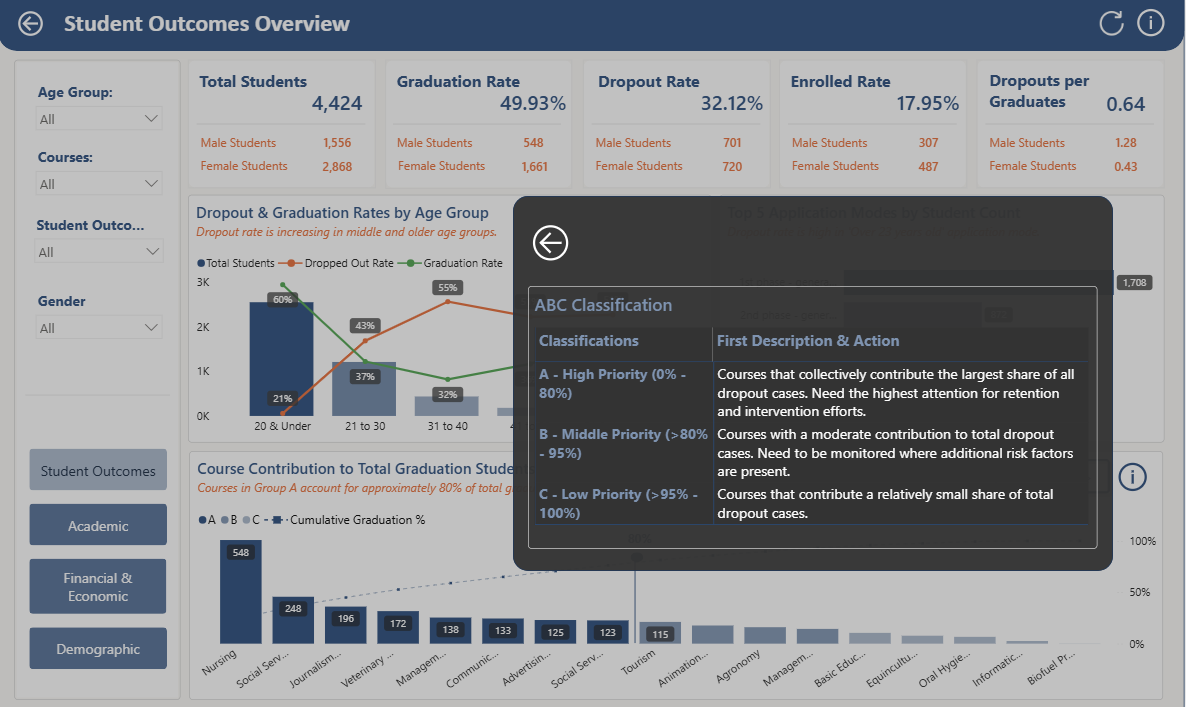

This screenshot's page, from the dashboard's own definition file:
{"tool":"powerbi","page":{"name":"Student Outcomes Overview","canvas":[1582,950],"ordinal":1},"visuals":[{"type":"shape","title":"Shape - Under","box":[0,0,1581.7,73.3],"z":0,"group":"g3"},{"type":"textbox","box":[83.9,12.3,395,50],"z":0,"group":"g7"},{"type":"shape","box":[21.7,85,221.7,853.3],"z":0,"group":"g30"},{"type":"shape","box":[516.7,85,249.1,171.6],"z":0,"group":"g1"},{"type":"group","id":"g1","title":"Group 3","box":[516.7,85,250.1,171.7],"z":0,"group":"g29"},{"type":"shape","box":[779.4,85,250.1,171.4],"z":0,"group":"g4"},{"type":"shape","box":[1042.1,85,250.1,171.4],"z":0,"group":"g8"},{"type":"shape","box":[1304.8,85,250.1,171.4],"z":0,"group":"g22"},{"type":"shape","box":[253.3,85.1,250.1,171.4],"z":0,"group":"g15"},{"type":"textbox","box":[1316.9,91.8,237,71.9],"z":0,"group":"g9"},{"type":"textbox","box":[526.4,92.8,191.5,43.9],"z":0,"group":"g10"},{"type":"textbox","box":[793.7,93,169.6,40.1],"z":0,"group":"g11"},{"type":"textbox","box":[1052.1,93,173,42],"z":0,"group":"g12"},{"type":"textbox","box":[262.8,93.1,181.4,42],"z":0,"group":"g13"},{"type":"textbox","box":[790.4,177.9,142.8,39.1],"z":0,"group":"g17"},{"type":"textbox","box":[1053.1,177.9,142.8,39.1],"z":0,"group":"g18"},{"type":"textbox","box":[1315.8,177.9,142.8,39.1],"z":0,"group":"g19"},{"type":"textbox","box":[264.3,178,142.8,39.1],"z":0,"group":"g20"},{"type":"textbox","box":[527,178.3,182.3,39.2],"z":0,"group":"g21"},{"type":"textbox","box":[790.8,209.9,142.8,39.1],"z":0,"group":"g23"},{"type":"textbox","box":[1053.5,209.9,142.8,39.1],"z":0,"group":"g24"},{"type":"textbox","box":[1316.2,209.9,142.8,39.1],"z":0,"group":"g25"},{"type":"textbox","box":[264.7,210,142.8,39.1],"z":0,"group":"g26"},{"type":"textbox","box":[528.1,210.2,142.3,39.1],"z":0,"group":"g27"},{"type":"slicer","fields":{"Values":["fact_student.Gender"]},"box":[39.7,387.9,188.9,105.6],"z":0,"group":"g16"},{"type":"shape","box":[36.7,508.4,192.2,155.9],"z":0},{"type":"group","id":"g2","title":"Group 4","box":[42,603.6,183.7,293.8],"z":0,"group":"g5"},{"type":"lineStackedColumnComboChart","title":"Course Contribution to Total Dropouts (Pareto Principle & ABC Categorization)","fields":{"Category":["sum_course_contribution.Course Name"],"Series":["sum_course_contribution.Dropout ABC"],"Y":["Sum(sum_course_contribution.Dropout Count)"],"Y2":["Sum(sum_course_contribution.Cumulative Dropout %)"]},"box":[253.1,606.5,1302.1,329.5],"z":0,"group":"g28"},{"type":"actionButton","title":"icon_info_dropout","box":[1495,615.7,56.8,48.9],"z":0,"group":"g14"},{"type":"shape","box":[1052.5,749.1,32.7,111.2],"z":0,"group":"g6"},{"type":"actionButton","title":"btn_demographic","box":[42,841.3,183.7,56],"z":0,"group":"g2"},{"type":"group","id":"g3","title":"Bg-NavBar","box":[0,0,1581.7,73.3],"z":1000},{"type":"shape","box":[0,0,1581.7,46],"z":1000,"group":"g3"},{"type":"image","box":[1463.6,20,43.3,32.5],"z":1000,"group":"g7"},{"type":"shape","box":[527.5,85,223.8,171.6],"z":1000,"group":"g1"},{"type":"group","id":"g4","title":"Group 3","box":[779.4,85,250.1,171.7],"z":1000,"group":"g29"},{"type":"shape","box":[790.3,85,224.7,171.4],"z":1000,"group":"g4"},{"type":"shape","box":[1053,85,224.7,171.4],"z":1000,"group":"g8"},{"type":"shape","box":[1315.7,85,224.7,171.4],"z":1000,"group":"g22"},{"type":"shape","box":[264.2,85.1,224.7,171.4],"z":1000,"group":"g15"},{"type":"slicer","fields":{"Values":["fact_student.Age Groups"]},"box":[39.7,110.1,188.9,105.6],"z":1000,"group":"g16"},{"type":"card","fields":{"Values":["tbl_measure.Dropout : Graduate Ratio"]},"box":[1451.2,120.9,104.9,52.3],"z":1000,"group":"g9"},{"type":"card","fields":{"Values":["tbl_measure.Dropped Out Rate"]},"box":[925.3,121.5,104.7,46.1],"z":1000,"group":"g11"},{"type":"card","fields":{"Values":["tbl_measure.Enrolled Rate"]},"box":[1188,121.5,104.7,46.1],"z":1000,"group":"g12"},{"type":"card","fields":{"Values":["tbl_measure.Total Students"]},"box":[399.2,121.6,104.7,46.1],"z":1000,"group":"g13"},{"type":"card","fields":{"Values":["tbl_measure.Graduate Rate"]},"box":[662.1,121.6,104.3,46.1],"z":1000,"group":"g10"},{"type":"card","fields":{"Values":["tbl_measure.Dropout Students"]},"box":[925.6,176.2,104.7,41.9],"z":1000,"group":"g17"},{"type":"card","fields":{"Values":["tbl_measure.Enrolled Students"]},"box":[1188.3,176.2,104.7,41.9],"z":1000,"group":"g18"},{"type":"card","fields":{"Values":["tbl_measure.Dropout : Graduate Ratio"]},"box":[1451,176.2,104.7,41.9],"z":1000,"group":"g19"},{"type":"card","fields":{"Values":["tbl_measure.Total Students"]},"box":[399.5,176.3,104.7,41.9],"z":1000,"group":"g20"},{"type":"card","fields":{"Values":["tbl_measure.Graduate Students"]},"box":[662.3,176.3,104.3,41.9],"z":1000,"group":"g21"},{"type":"card","fields":{"Values":["tbl_measure.Dropout Students"]},"box":[926,208.2,104.7,41.9],"z":1000,"group":"g23"},{"type":"card","fields":{"Values":["tbl_measure.Enrolled Students"]},"box":[1188.7,208.2,104.7,41.9],"z":1000,"group":"g24"},{"type":"card","fields":{"Values":["tbl_measure.Dropout : Graduate Ratio"]},"box":[1451.4,208.2,104.7,41.9],"z":1000,"group":"g25"},{"type":"card","fields":{"Values":["tbl_measure.Total Students"]},"box":[399.9,208.3,104.7,41.9],"z":1000,"group":"g26"},{"type":"card","fields":{"Values":["tbl_measure.Graduate Students"]},"box":[662.8,208.4,104.3,41.9],"z":1000,"group":"g27"},{"type":"group","id":"g5","title":"Group 6","box":[42,603.6,183.7,293.8],"z":1000,"group":"g30"},{"type":"actionButton","title":"btn_finance_eco","box":[42,603.6,183.7,56],"z":1000,"group":"g2"},{"type":"actionButton","title":"Top 5 Courses with Graduation","box":[1330.6,611.5,165.1,57.3],"z":1000,"group":"g14"},{"type":"group","id":"g6","title":"group_pareto_80_dropout","box":[1038.8,705.1,62.1,155.3],"z":1000,"group":"g28"},{"type":"shape","box":[1061.1,743.3,15.9,15.9],"z":1000,"group":"g6"},{"type":"group","id":"g7","title":"Group 3","box":[21.7,11.7,1545,50.6],"z":2000},{"type":"actionButton","box":[21.7,14.6,55.6,43.4],"z":2000,"group":"g7"},{"type":"group","id":"g8","title":"Group 3","box":[1042.1,85,250.1,171.7],"z":2000,"group":"g29"},{"type":"group","id":"g9","title":"Group 2","box":[1316.9,91.8,239.1,81.4],"z":2000,"group":"g22"},{"type":"group","id":"g10","title":"Group 2","box":[526.4,92.8,240,74.9],"z":2000,"group":"g1"},{"type":"group","id":"g11","title":"Group 2","box":[793.7,93,236.3,74.5],"z":2000,"group":"g4"},{"type":"group","id":"g12","title":"Group 2","box":[1052.1,93,240.6,74.5],"z":2000,"group":"g8"},{"type":"group","id":"g13","title":"Group 2","box":[262.8,93.1,241.1,74.5],"z":2000,"group":"g15"},{"type":"slicer","fields":{"Values":["fact_student.Target"]},"box":[37.9,286.5,192.6,105.1],"z":2000,"group":"g16"},{"type":"shape","title":"Line","box":[36.6,473.4,192.6,117.8],"z":2000,"group":"g30"},{"type":"group","id":"g14","title":"btn_actions_dropout","box":[1330.6,611.5,221.2,57.3],"z":2000,"group":"g28"},{"type":"actionButton","title":"btn_academic","box":[42,676.9,183.7,56],"z":2000,"group":"g2"},{"type":"textbox","box":[1038.8,705.1,62.1,35],"z":2000,"group":"g6"},{"type":"actionButton","box":[1513.7,11.7,53,47.7],"z":3000,"group":"g7"},{"type":"group","id":"g15","title":"Group 3","box":[253.3,85.1,250.9,171.4],"z":3000,"group":"g29"},{"type":"group","id":"g16","title":"Group 5","box":[37.9,110.1,192.6,383.5],"z":3000,"group":"g30"},{"type":"group","id":"g17","title":"Group 2","box":[790.4,176.2,239.9,41.9],"z":3000,"group":"g4"},{"type":"group","id":"g18","title":"Group 2","box":[1053.1,176.2,239.9,41.9],"z":3000,"group":"g8"},{"type":"group","id":"g19","title":"Group 2","box":[1315.8,176.2,239.9,41.9],"z":3000,"group":"g22"},{"type":"group","id":"g20","title":"Group 2","box":[264.3,176.3,239.9,41.9],"z":3000,"group":"g15"},{"type":"group","id":"g21","title":"Group 2","box":[527,176.3,239.6,41.9],"z":3000,"group":"g1"},{"type":"slicer","fields":{"Values":["dim_course.Course Name"]},"box":[39.6,197.4,189.2,105.1],"z":3000,"group":"g16"},{"type":"actionButton","title":"btn_outcome","box":[42.3,750.1,183,73.9],"z":3000,"group":"g2"},{"type":"group","id":"g22","title":"Group 3","box":[1304.8,85,251.3,171.4],"z":4000,"group":"g29"},{"type":"group","id":"g23","title":"Group 2","box":[790.8,208.2,239.2,41.9],"z":4000,"group":"g4"},{"type":"group","id":"g24","title":"Group 2","box":[1053.5,208.2,239.2,41.9],"z":4000,"group":"g8"},{"type":"group","id":"g25","title":"Group 2","box":[1316.2,208.2,239.2,41.9],"z":4000,"group":"g22"},{"type":"group","id":"g26","title":"Group 2","box":[264.7,208.3,239.2,41.9],"z":4000,"group":"g15"},{"type":"group","id":"g27","title":"Group 2","box":[528.1,208.4,238.3,41.9],"z":4000,"group":"g1"},{"type":"group","id":"g28","title":"grp_dropout_courses","box":[253.1,606.5,1302.1,329.5],"z":4000},{"type":"lineClusteredColumnComboChart","title":"Dropout & Graduation Rates by Age Group","fields":{"Category":["fact_student.Age Groups"],"Y":["tbl_measure.Total Students"],"Y2":["tbl_measure.Dropped Out Rate","tbl_measure.Graduation Rate"]},"box":[253,265.3,698.3,330],"z":5000},{"type":"clusteredBarChart","title":"Top 5 Application Modes by Student Count","fields":{"Category":["dim_applicationmode.ApplicationMode"],"Y":["tbl_measure.Total Students"]},"box":[961.3,265.3,593.3,330],"z":6000},{"type":"group","id":"g29","title":"Group 1","box":[253.3,85,1302.8,171.7],"z":7000},{"type":"group","id":"g30","title":"Sidebar","box":[21.7,85,221.7,853.3],"z":8000}]}

Visuals, with their boxes in screenshot pixels (x1, y1, x2, y2), scaled from the page's 1582x950 canvas onto the 1186x707 screenshot:
"Shape - Under" shape: pyautogui.locateOnScreen(0, 0, 1185, 55)
textbox: pyautogui.locateOnScreen(63, 9, 359, 46)
shape: pyautogui.locateOnScreen(16, 63, 182, 698)
shape: pyautogui.locateOnScreen(387, 63, 574, 191)
"Group 3" group: pyautogui.locateOnScreen(387, 63, 575, 191)
shape: pyautogui.locateOnScreen(584, 63, 772, 191)
shape: pyautogui.locateOnScreen(781, 63, 969, 191)
shape: pyautogui.locateOnScreen(978, 63, 1166, 191)
shape: pyautogui.locateOnScreen(190, 63, 377, 191)
textbox: pyautogui.locateOnScreen(987, 68, 1165, 122)
textbox: pyautogui.locateOnScreen(395, 69, 538, 102)
textbox: pyautogui.locateOnScreen(595, 69, 722, 99)
textbox: pyautogui.locateOnScreen(789, 69, 918, 100)
textbox: pyautogui.locateOnScreen(197, 69, 333, 101)
textbox: pyautogui.locateOnScreen(593, 132, 700, 161)
textbox: pyautogui.locateOnScreen(789, 132, 897, 161)
textbox: pyautogui.locateOnScreen(986, 132, 1093, 161)
textbox: pyautogui.locateOnScreen(198, 132, 305, 162)
textbox: pyautogui.locateOnScreen(395, 133, 532, 162)
textbox: pyautogui.locateOnScreen(593, 156, 700, 185)
textbox: pyautogui.locateOnScreen(790, 156, 897, 185)
textbox: pyautogui.locateOnScreen(987, 156, 1094, 185)
textbox: pyautogui.locateOnScreen(198, 156, 305, 185)
textbox: pyautogui.locateOnScreen(396, 156, 503, 186)
slicer - fact_student.Gender: pyautogui.locateOnScreen(30, 289, 171, 367)
shape: pyautogui.locateOnScreen(28, 378, 172, 494)
"Group 4" group: pyautogui.locateOnScreen(31, 449, 169, 668)
"Course Contribution to Total Dropouts (Pareto Principle & ABC Categorization)" lineStackedColumnComboChart: pyautogui.locateOnScreen(190, 451, 1166, 697)
"icon_info_dropout" actionButton: pyautogui.locateOnScreen(1121, 458, 1163, 495)
shape: pyautogui.locateOnScreen(789, 557, 814, 640)
"btn_demographic" actionButton: pyautogui.locateOnScreen(31, 626, 169, 668)
"Bg-NavBar" group: pyautogui.locateOnScreen(0, 0, 1185, 55)
shape: pyautogui.locateOnScreen(0, 0, 1185, 34)
image: pyautogui.locateOnScreen(1097, 15, 1130, 39)
shape: pyautogui.locateOnScreen(395, 63, 563, 191)
"Group 3" group: pyautogui.locateOnScreen(584, 63, 772, 191)
shape: pyautogui.locateOnScreen(592, 63, 761, 191)
shape: pyautogui.locateOnScreen(789, 63, 958, 191)
shape: pyautogui.locateOnScreen(986, 63, 1155, 191)
shape: pyautogui.locateOnScreen(198, 63, 367, 191)
slicer - fact_student.Age Groups: pyautogui.locateOnScreen(30, 82, 171, 161)
card - tbl_measure.Dropout : Graduate Ratio: pyautogui.locateOnScreen(1088, 90, 1167, 129)
card - tbl_measure.Dropped Out Rate: pyautogui.locateOnScreen(694, 90, 772, 125)
card - tbl_measure.Enrolled Rate: pyautogui.locateOnScreen(891, 90, 969, 125)
card - tbl_measure.Total Students: pyautogui.locateOnScreen(299, 90, 378, 125)
card - tbl_measure.Graduate Rate: pyautogui.locateOnScreen(496, 90, 575, 125)
card - tbl_measure.Dropout Students: pyautogui.locateOnScreen(694, 131, 772, 162)
card - tbl_measure.Enrolled Students: pyautogui.locateOnScreen(891, 131, 969, 162)
card - tbl_measure.Dropout : Graduate Ratio: pyautogui.locateOnScreen(1088, 131, 1166, 162)
card - tbl_measure.Total Students: pyautogui.locateOnScreen(299, 131, 378, 162)
card - tbl_measure.Graduate Students: pyautogui.locateOnScreen(497, 131, 575, 162)
card - tbl_measure.Dropout Students: pyautogui.locateOnScreen(694, 155, 773, 186)
card - tbl_measure.Enrolled Students: pyautogui.locateOnScreen(891, 155, 970, 186)
card - tbl_measure.Dropout : Graduate Ratio: pyautogui.locateOnScreen(1088, 155, 1167, 186)
card - tbl_measure.Total Students: pyautogui.locateOnScreen(300, 155, 378, 186)
card - tbl_measure.Graduate Students: pyautogui.locateOnScreen(497, 155, 575, 186)
"Group 6" group: pyautogui.locateOnScreen(31, 449, 169, 668)
"btn_finance_eco" actionButton: pyautogui.locateOnScreen(31, 449, 169, 491)
"Top 5 Courses with Graduation" actionButton: pyautogui.locateOnScreen(998, 455, 1121, 498)
"group_pareto_80_dropout" group: pyautogui.locateOnScreen(779, 525, 825, 640)
shape: pyautogui.locateOnScreen(795, 553, 807, 565)
"Group 3" group: pyautogui.locateOnScreen(16, 9, 1175, 46)
actionButton: pyautogui.locateOnScreen(16, 11, 58, 43)
"Group 3" group: pyautogui.locateOnScreen(781, 63, 969, 191)
"Group 2" group: pyautogui.locateOnScreen(987, 68, 1167, 129)
"Group 2" group: pyautogui.locateOnScreen(395, 69, 575, 125)
"Group 2" group: pyautogui.locateOnScreen(595, 69, 772, 125)
"Group 2" group: pyautogui.locateOnScreen(789, 69, 969, 125)
"Group 2" group: pyautogui.locateOnScreen(197, 69, 378, 125)
slicer - fact_student.Target: pyautogui.locateOnScreen(28, 213, 173, 291)
"Line" shape: pyautogui.locateOnScreen(27, 352, 172, 440)
"btn_actions_dropout" group: pyautogui.locateOnScreen(998, 455, 1163, 498)
"btn_academic" actionButton: pyautogui.locateOnScreen(31, 504, 169, 545)
textbox: pyautogui.locateOnScreen(779, 525, 825, 551)
actionButton: pyautogui.locateOnScreen(1135, 9, 1175, 44)
"Group 3" group: pyautogui.locateOnScreen(190, 63, 378, 191)
"Group 5" group: pyautogui.locateOnScreen(28, 82, 173, 367)
"Group 2" group: pyautogui.locateOnScreen(593, 131, 772, 162)
"Group 2" group: pyautogui.locateOnScreen(789, 131, 969, 162)
"Group 2" group: pyautogui.locateOnScreen(986, 131, 1166, 162)
"Group 2" group: pyautogui.locateOnScreen(198, 131, 378, 162)
"Group 2" group: pyautogui.locateOnScreen(395, 131, 575, 162)
slicer - dim_course.Course Name: pyautogui.locateOnScreen(30, 147, 172, 225)
"btn_outcome" actionButton: pyautogui.locateOnScreen(32, 558, 169, 613)
"Group 3" group: pyautogui.locateOnScreen(978, 63, 1167, 191)
"Group 2" group: pyautogui.locateOnScreen(593, 155, 772, 186)
"Group 2" group: pyautogui.locateOnScreen(790, 155, 969, 186)
"Group 2" group: pyautogui.locateOnScreen(987, 155, 1166, 186)
"Group 2" group: pyautogui.locateOnScreen(198, 155, 378, 186)
"Group 2" group: pyautogui.locateOnScreen(396, 155, 575, 186)
"grp_dropout_courses" group: pyautogui.locateOnScreen(190, 451, 1166, 697)
"Dropout & Graduation Rates by Age Group" lineClusteredColumnComboChart: pyautogui.locateOnScreen(190, 197, 713, 443)
"Top 5 Application Modes by Student Count" clusteredBarChart: pyautogui.locateOnScreen(721, 197, 1165, 443)
"Group 1" group: pyautogui.locateOnScreen(190, 63, 1167, 191)
"Sidebar" group: pyautogui.locateOnScreen(16, 63, 182, 698)
